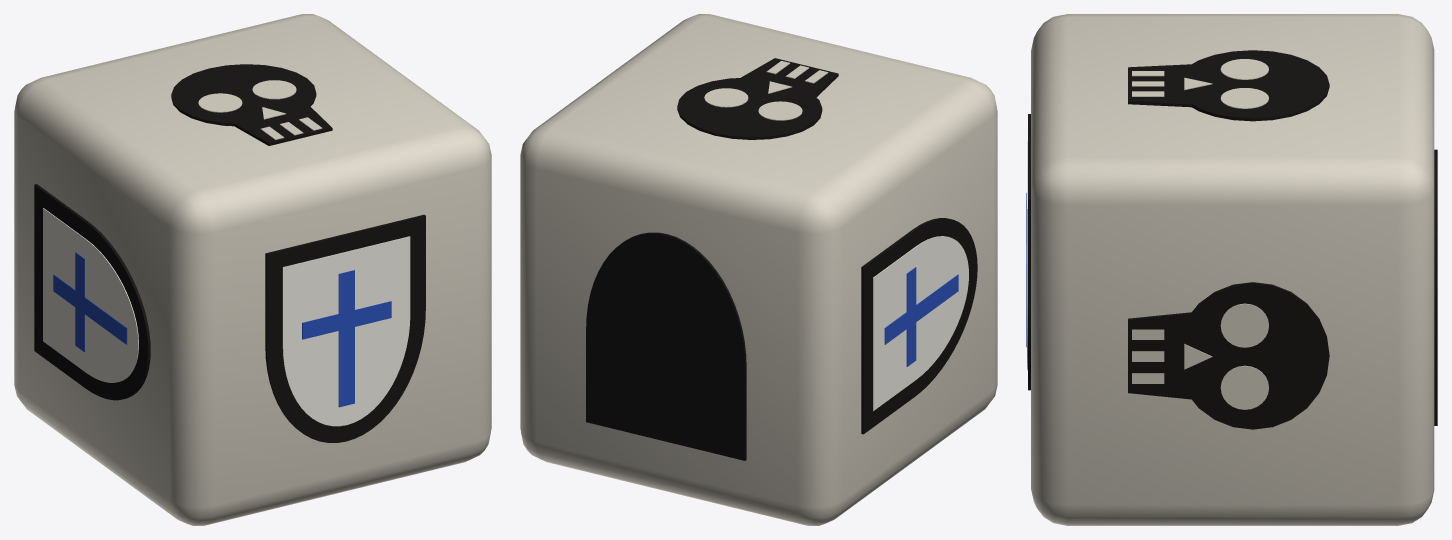
File: combat.glb
The picture shows the model from 3 angles, left to right: view 1: azimuth 30°, elevation 25°; view 2: azimuth 150°, elevation 25°; view 3: azimuth 270°, elevation 25°; orthographic projection. The views are drawn at different scales.
Parts seen in each view (by area): view 1: combat; view 2: combat; view 3: combat.
Boxes of the visible parts, <box> form: combat: <box>14,14,491,525</box>; combat: <box>520,14,997,525</box>; combat: <box>1026,14,1437,525</box>.
Bounding box in the file's own units: 1.02 × 1.02 × 1.02.
